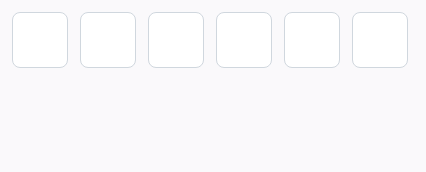
Test: CodeInput › moves along as digits are typed and reports the full code once
Click the field named "Digit 1 of 6": (40, 40) [12, 12, 68, 68]
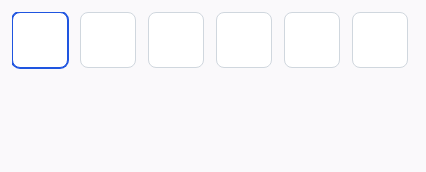
Type keys "48219"
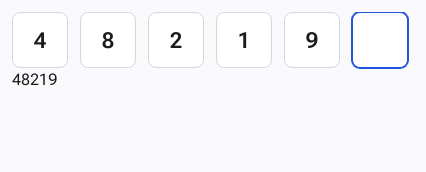
Type keys "0"
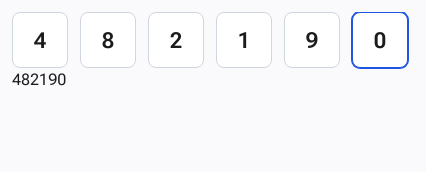
Expected: the text "482190" is shown, [12, 70, 66, 89]
